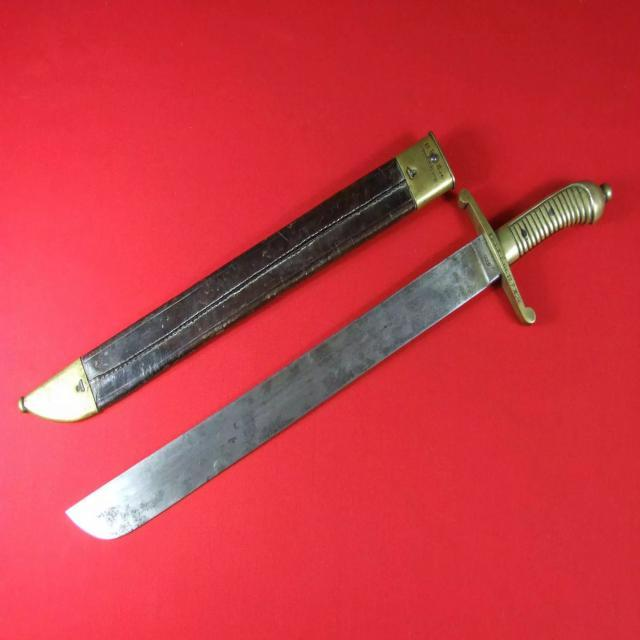short sword: (11, 117, 616, 554)
